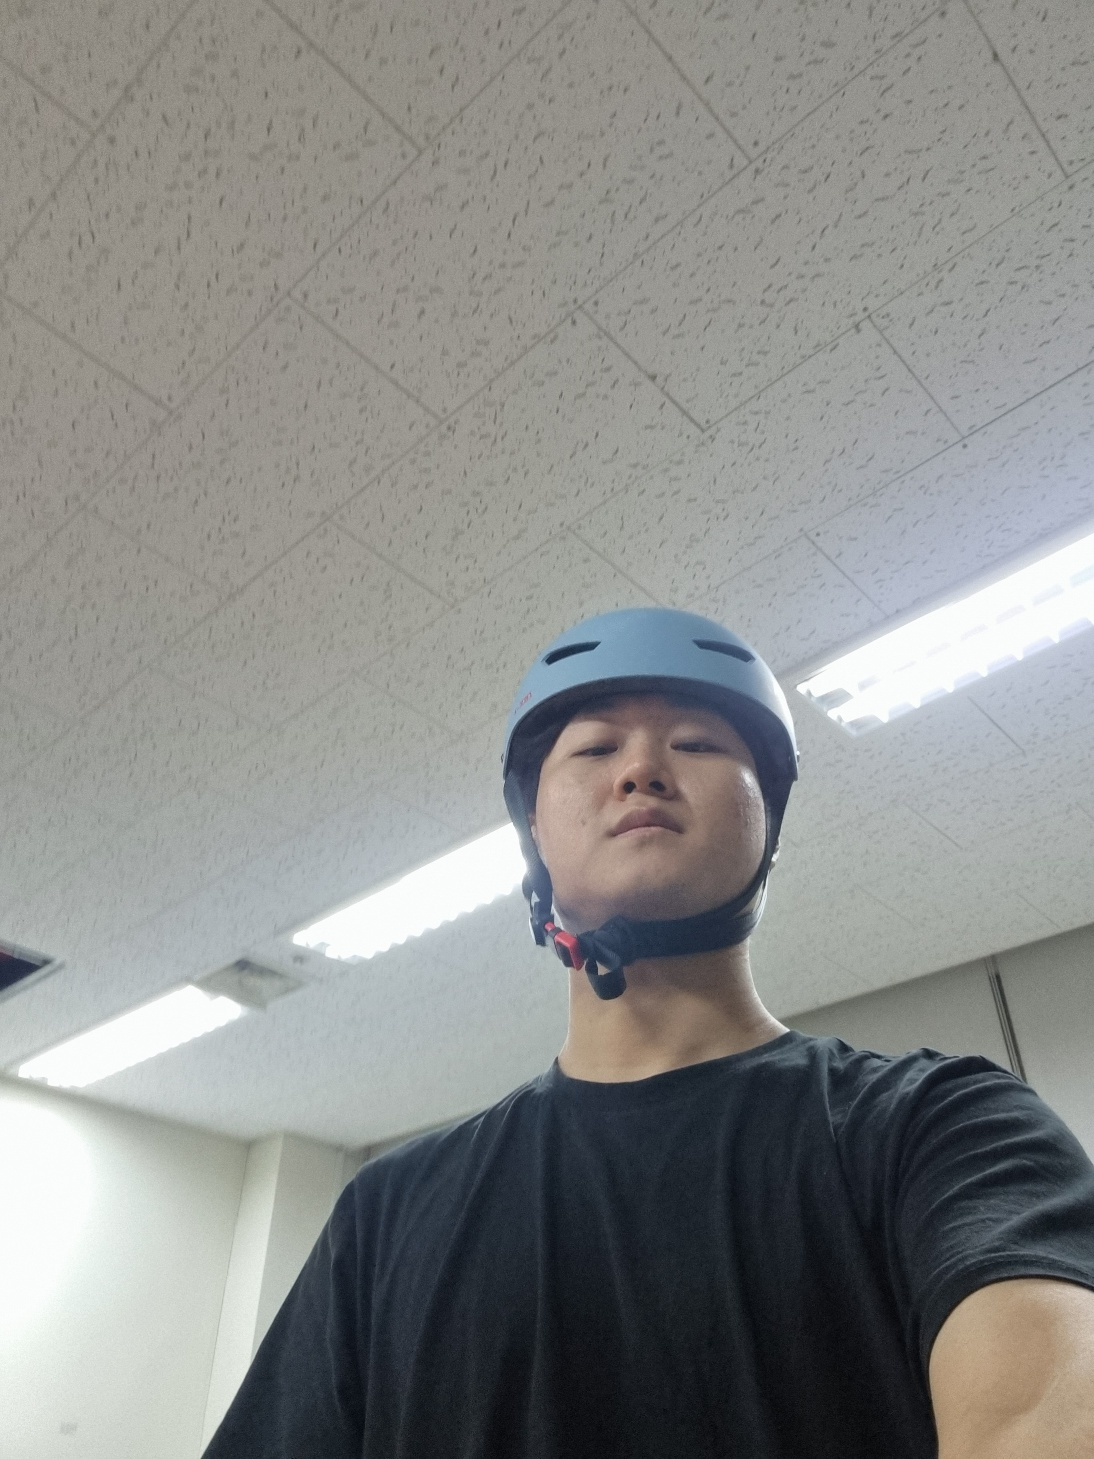Helmet: (469, 580, 860, 1035)
